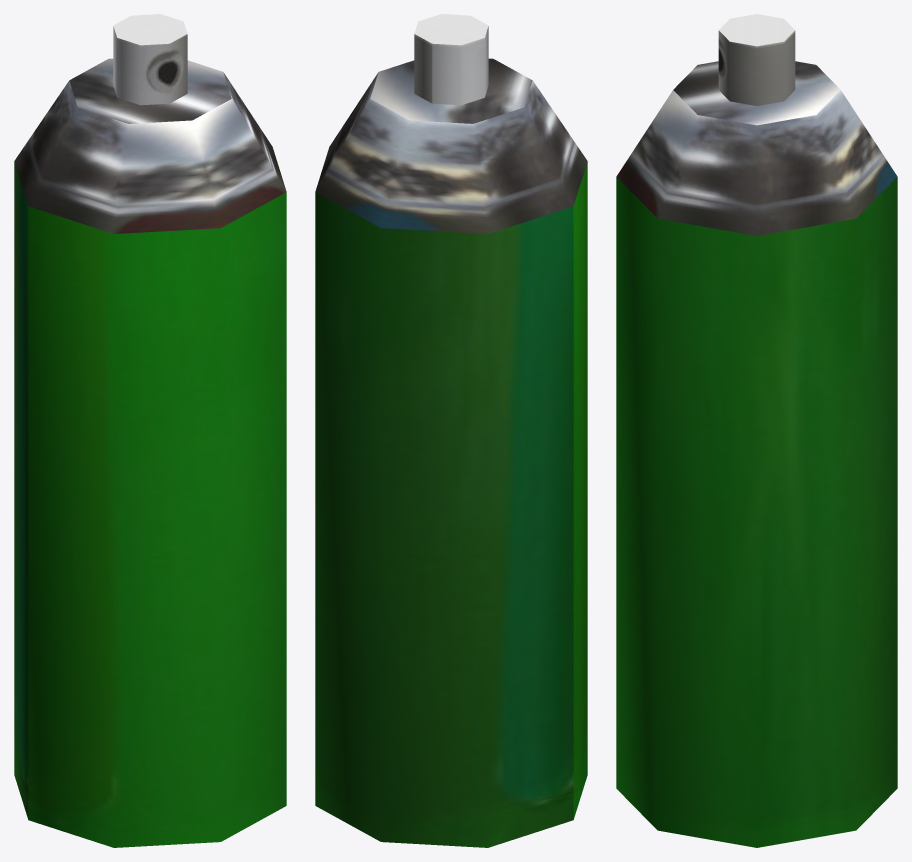
File: BugSpray.fbx
3 renders of one model, left to right at view 1: azimuth 30°, elevation 25°; view 2: azimuth 150°, elevation 25°; view 3: azimuth 270°, elevation 25°, orthographic.
Visible parts, largest first — view 1: BugSpray; view 2: BugSpray; view 3: BugSpray.
Part boxes in pixels (x1,y1,x2,y2): BugSpray: (14, 14, 286, 847); BugSpray: (315, 14, 587, 847); BugSpray: (616, 14, 897, 847).
Bounding box in the file's own units: 0.158 × 0.4703 × 0.158.
